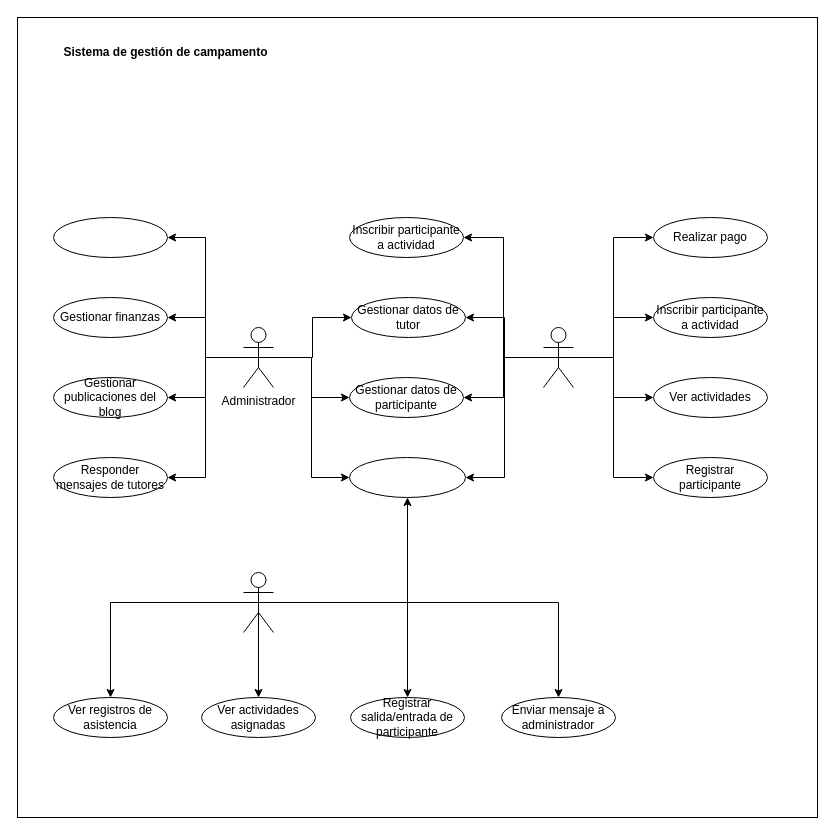
Some shapes in this 835 by 835 pixel diagram are drawn without their labels. The centre of each missing label's shape, as x and y in pixels:
"Gestionar actividades" goes at point 110,237.
"Iniciar/cerrar sesión" goes at point 407,477.
"Monitor" goes at point 258,602.
"Tutor" goes at point 558,357.
